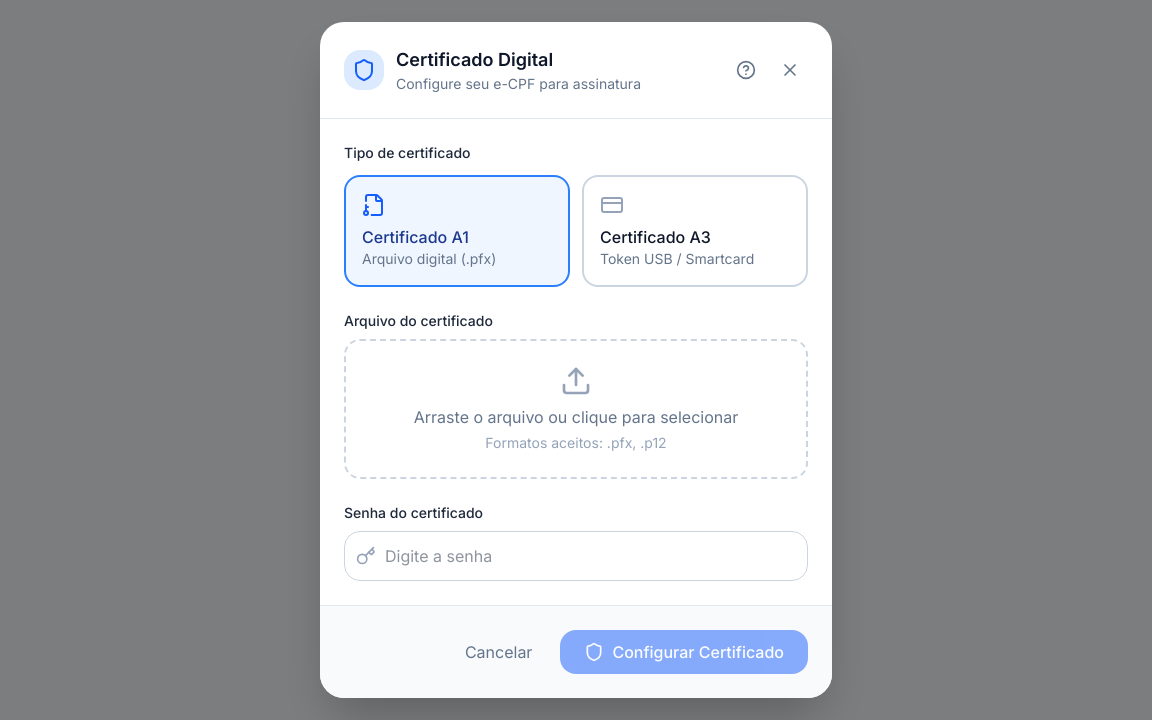
Test: CertificateSetup › help panel › should toggle help panel when help button is clicked
What coordinates should you click on to do the following:
click the button titled "Ajuda"
I would click on:
 (746, 70)
Its box is top-left (728, 52), bottom-right (764, 88).
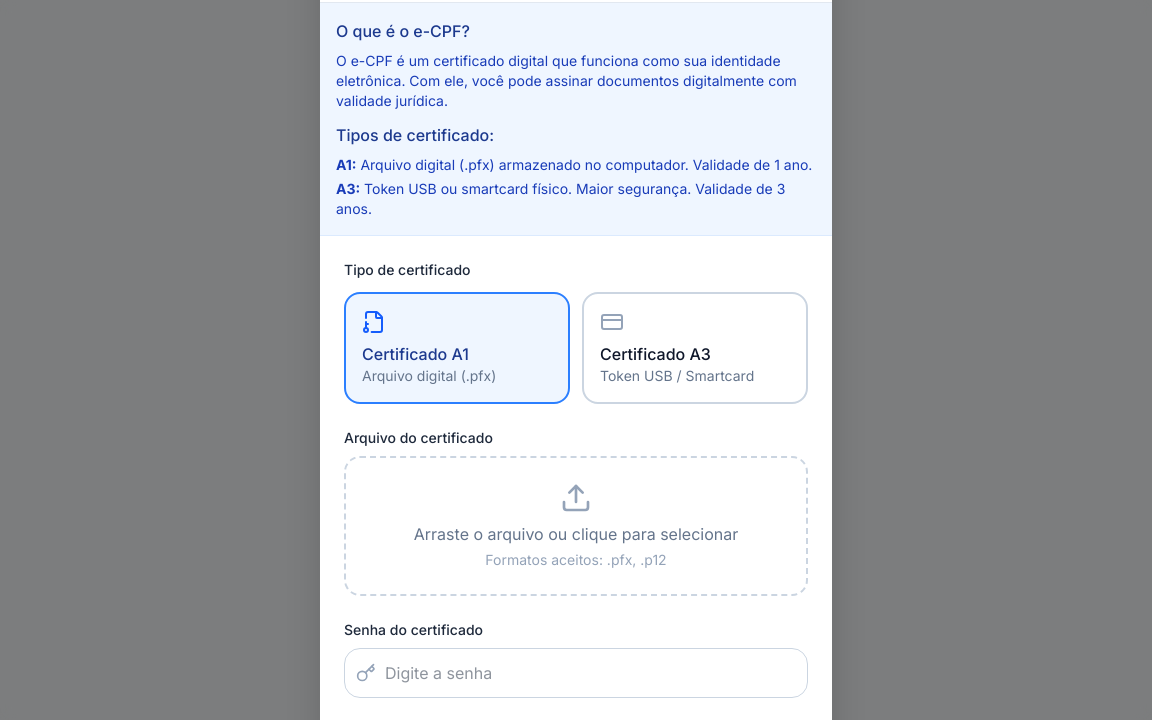
expect the heading "O que é o e-CPF?" is shown: met, box top-left (336, 20), bottom-right (470, 40)
expect the heading "Tipos de certificado:" is shown: met, box top-left (336, 124), bottom-right (494, 144)
